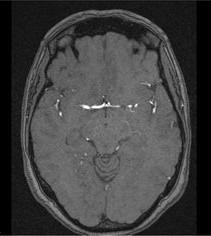Normal_Brain: (4, 17, 211, 236), (8, 19, 9, 20)
